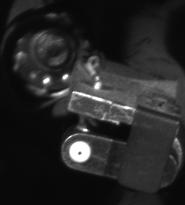fiber: (65, 139, 96, 165)
